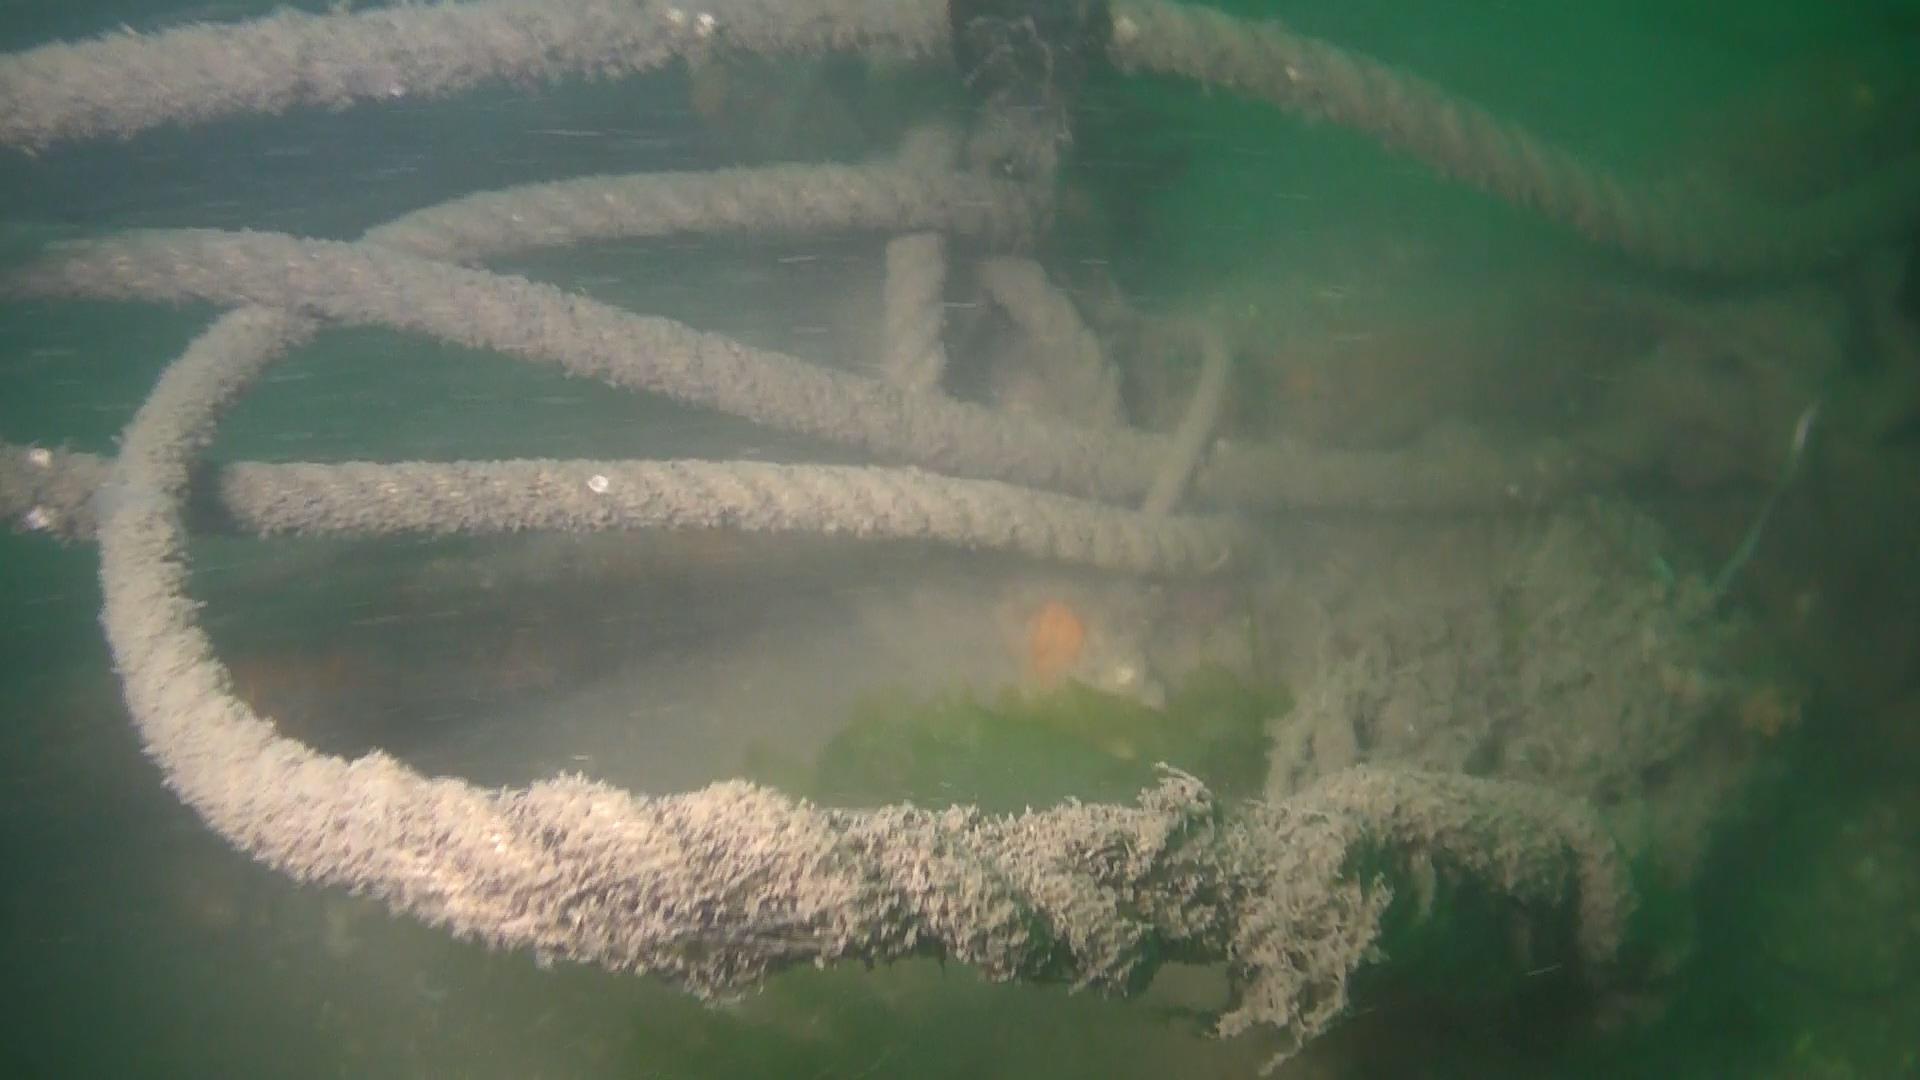bundle of ropes: (0, 0, 1821, 984)
